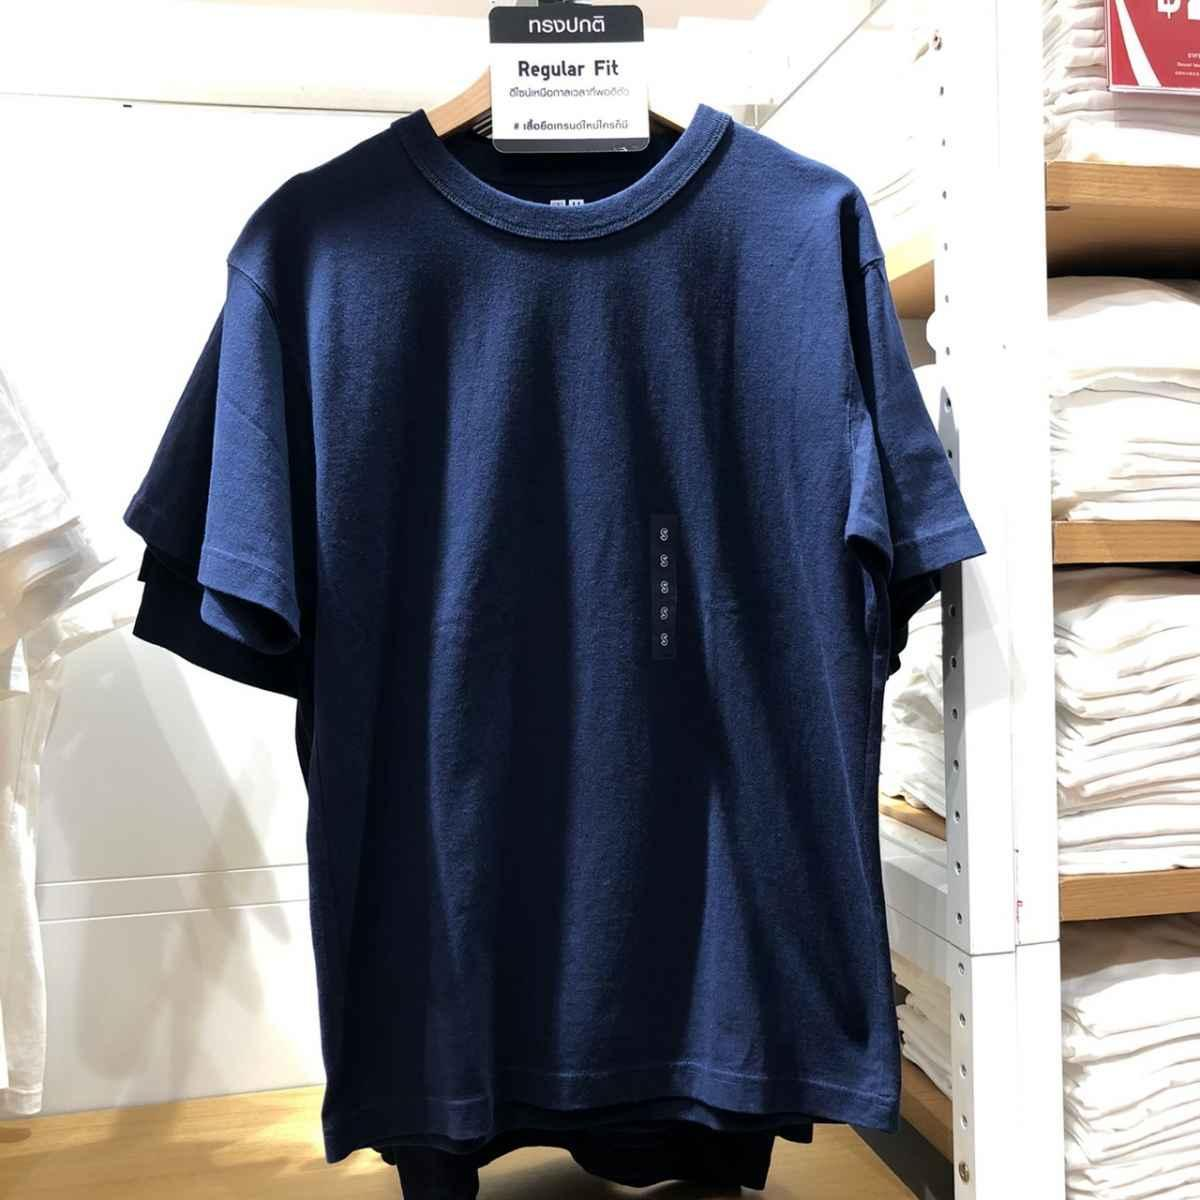Tshirt: (218, 100, 918, 1155)
